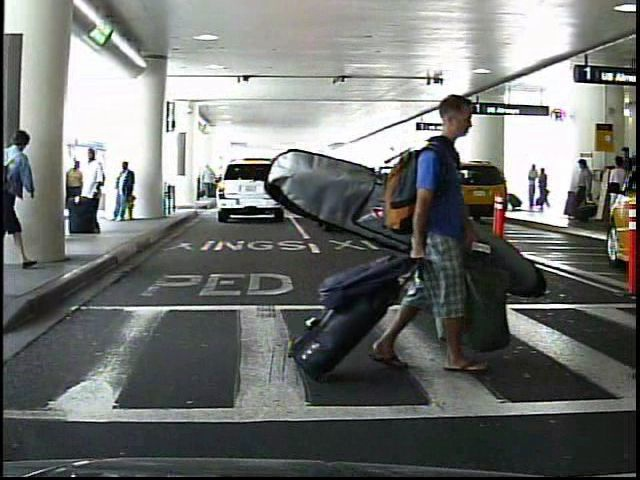person: (379, 81, 488, 381), (81, 146, 107, 237), (599, 153, 627, 232), (569, 157, 593, 225), (111, 160, 134, 226), (64, 158, 84, 231), (617, 142, 633, 230), (524, 162, 539, 210), (536, 167, 547, 211)
